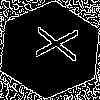X: (25, 25, 79, 62)
